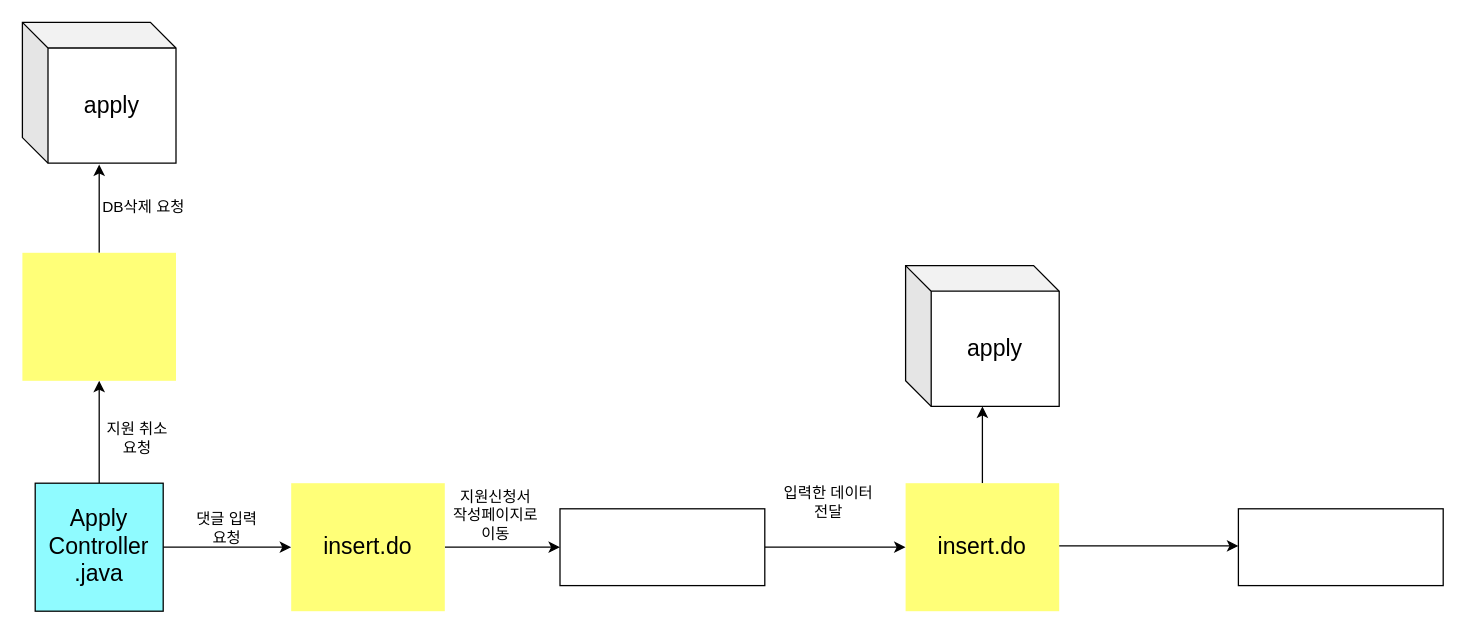
Some shapes in this 1466 by 634 pixel diagram are drawn without their labels. The centre of each missing label's shape, as x and y in pixels:
"appForm.jsp" goes at point 662,547.
"appSuc.jsp" goes at point 1340,547.
"delete.do" goes at point 98,316.
